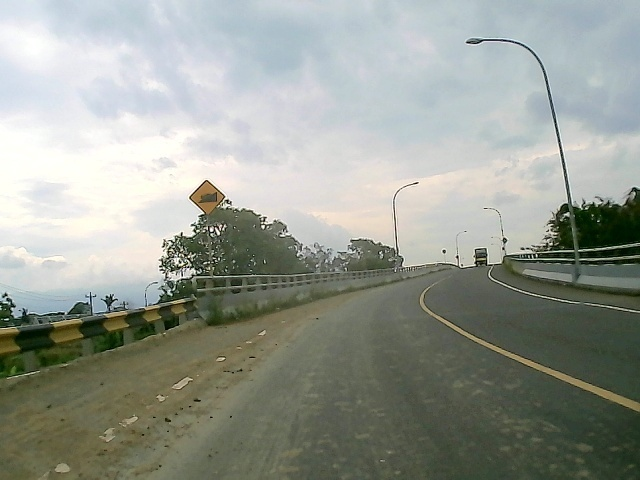Jalanan menanjak: (186, 176, 226, 218)
